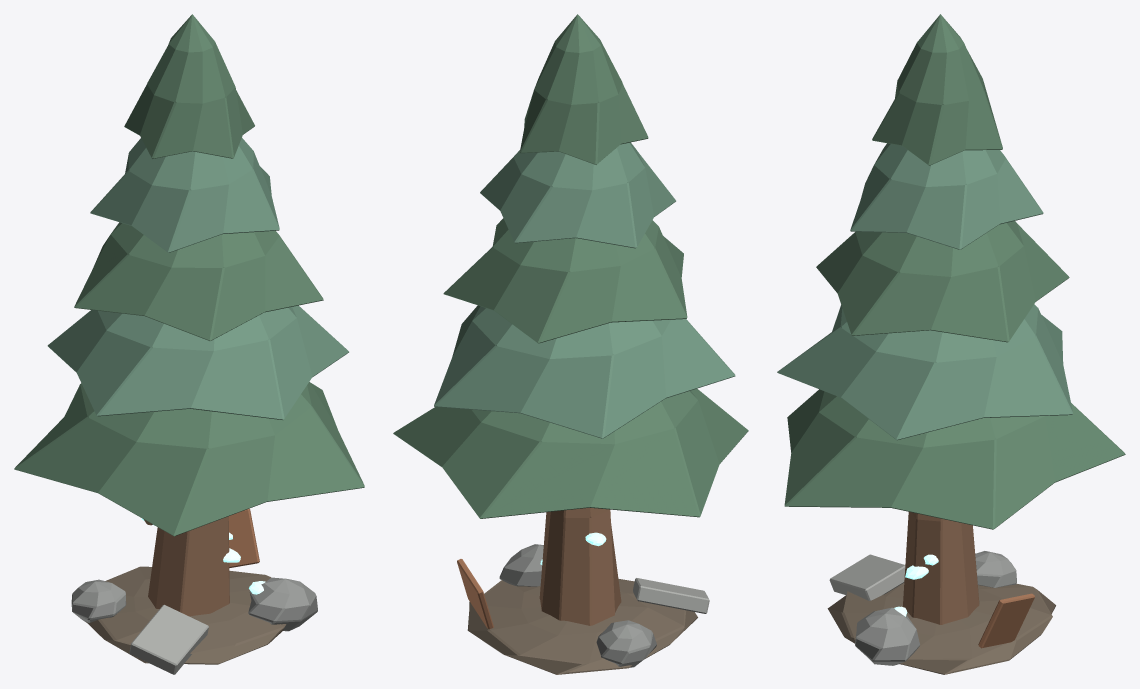
File: Apoc_Tree_03_Mutated_Overgrown_Pine.fbx
3 renders of one model, left to right at view 1: azimuth 30°, elevation 25°; view 2: azimuth 150°, elevation 25°; view 3: azimuth 270°, elevation 25°, orthographic.
Parts seen in each view (by area): view 1: Apoc_Tree_03_Mutated_Overgrown_Pine; view 2: Apoc_Tree_03_Mutated_Overgrown_Pine; view 3: Apoc_Tree_03_Mutated_Overgrown_Pine.
Part boxes in pixels (bbox=[...]): Apoc_Tree_03_Mutated_Overgrown_Pine: bbox=[14, 14, 364, 674]; Apoc_Tree_03_Mutated_Overgrown_Pine: bbox=[393, 14, 748, 674]; Apoc_Tree_03_Mutated_Overgrown_Pine: bbox=[777, 14, 1125, 674].
Size of the model in its own units: 2.28 by 4.38 by 2.22.
